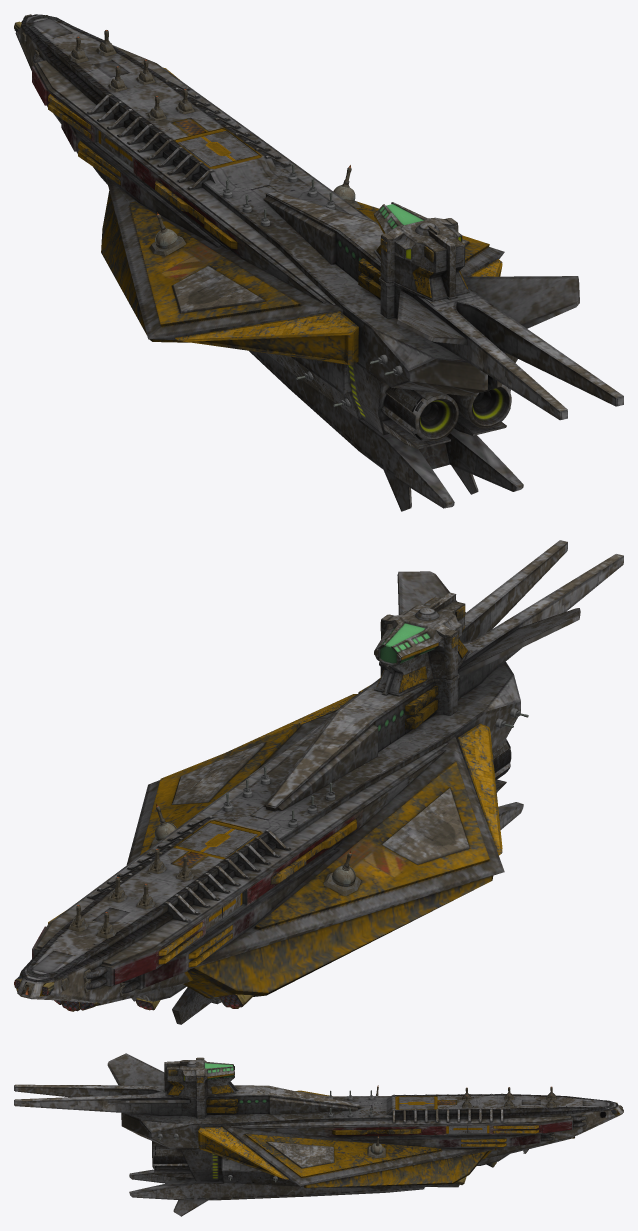
The model's file is zeram_mk2.glb.
The picture shows the model from 3 angles, top to bottom: view 1: azimuth 30°, elevation 25°; view 2: azimuth 150°, elevation 25°; view 3: azimuth 270°, elevation 25°; orthographic projection. The views are drawn at different scales.
Visible parts, largest first — view 1: body, bridge, R_backfin, booster1, gyrobay_door, L_backfin, booster2, platforms; view 2: body, bridge, L_backfin, gyrobay_door, R_backfin, platforms; view 3: body, bridge, L_backfin, booster2, gyrobay_door, platforms, R_backfin.
Part boxes in pixels (x1,y1,x2,y2): body: (15, 14, 623, 511); bridge: (374, 202, 469, 318); R_backfin: (463, 276, 579, 328); booster1: (381, 387, 458, 441); gyrobay_door: (176, 129, 260, 168); L_backfin: (397, 290, 467, 344); booster2: (447, 384, 511, 428); platforms: (21, 32, 360, 255); body: (16, 540, 623, 1024); bridge: (374, 592, 469, 715); L_backfin: (457, 608, 580, 677); gyrobay_door: (175, 821, 260, 858); R_backfin: (397, 571, 465, 614); platforms: (61, 837, 361, 996); body: (14, 1084, 623, 1216); bridge: (164, 1057, 238, 1118); L_backfin: (107, 1053, 164, 1085); booster2: (152, 1141, 189, 1169); gyrobay_door: (396, 1096, 437, 1109); platforms: (367, 1096, 586, 1157); R_backfin: (107, 1100, 189, 1103).
Bounding box in the file's own units: 123 × 89.49 × 338.
Materials: 8 (5 with a texture image).
